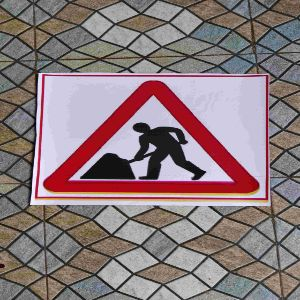men at work: (39, 72, 265, 205)
